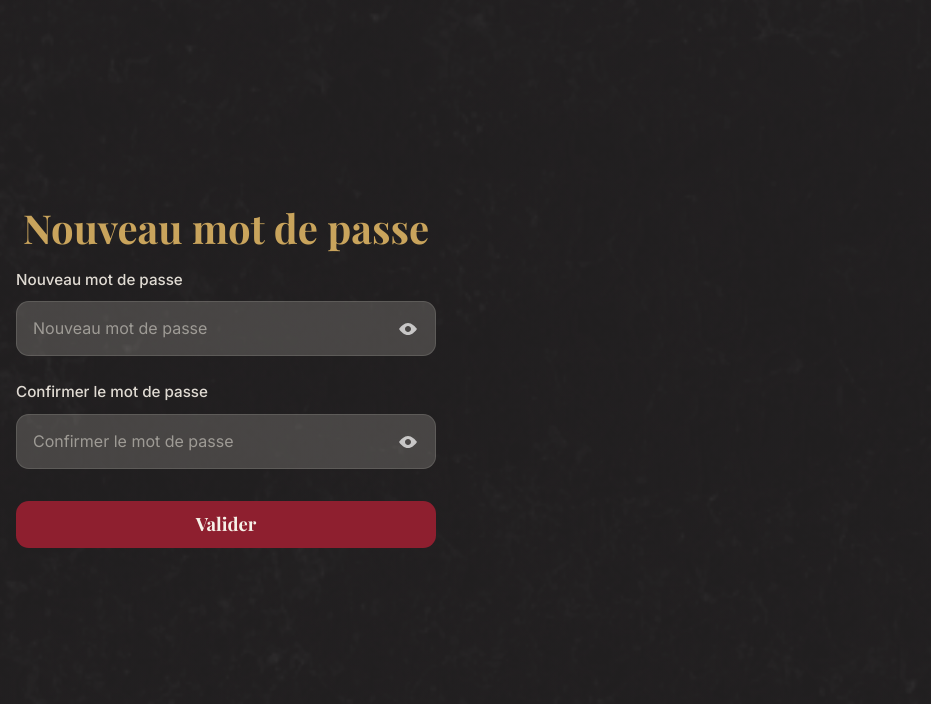
it: ResetPassword › affiche une erreur si les mots de passe ne correspondent pas
Type "MonMotDePasse1!" into the password field labelled "Nouveau mot de passe" at (226, 329), box [16, 301, 436, 356]
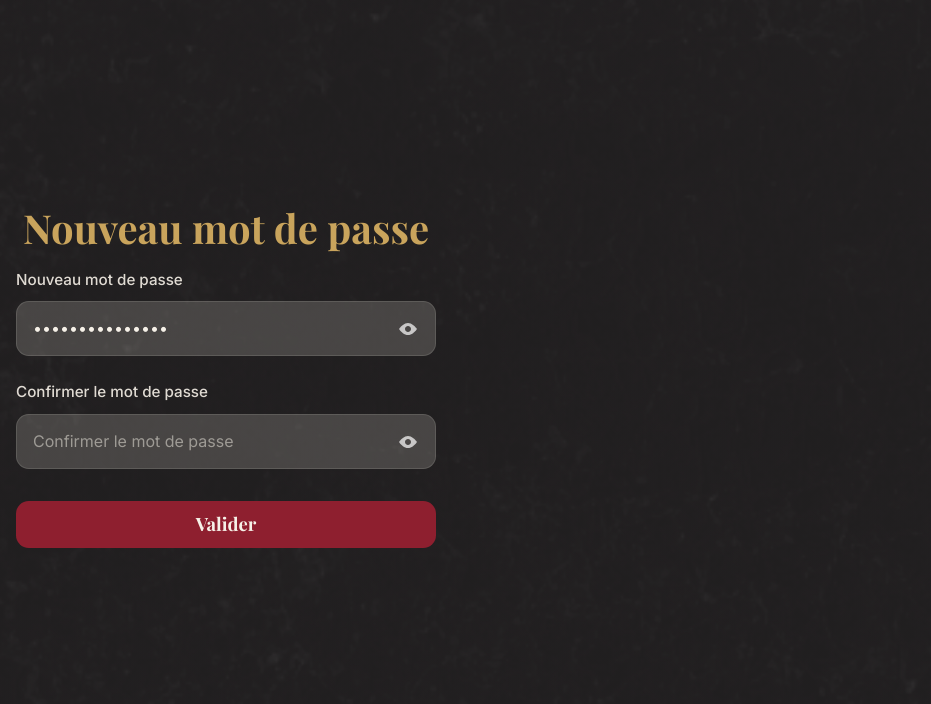
Type "MotDePasseDifferent1!" into the password field labelled "Confirmer le mot de passe" at (226, 442), box [16, 414, 436, 469]
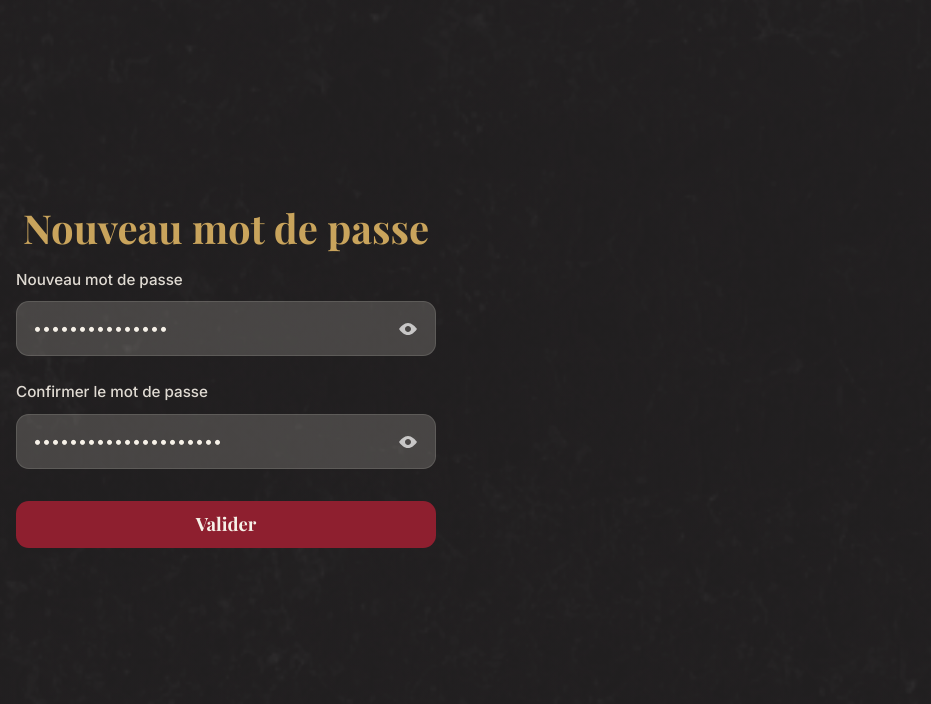
Click the button "Valider" at (226, 525), box [16, 501, 436, 548]
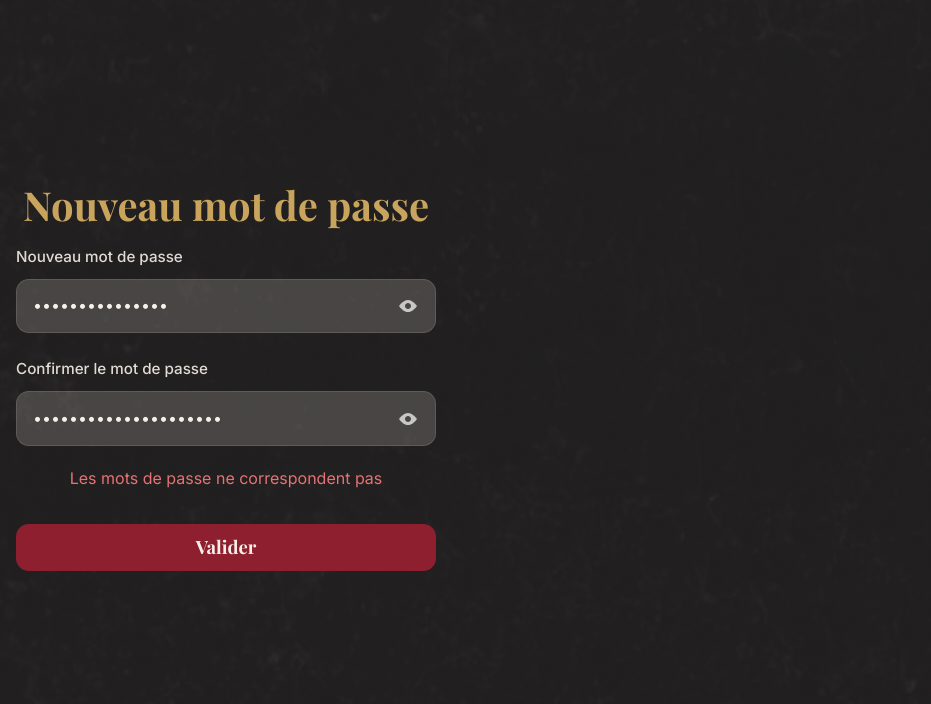
Result: the text "Les mots de passe ne correspondent pas" is shown at [70, 468, 382, 488]
